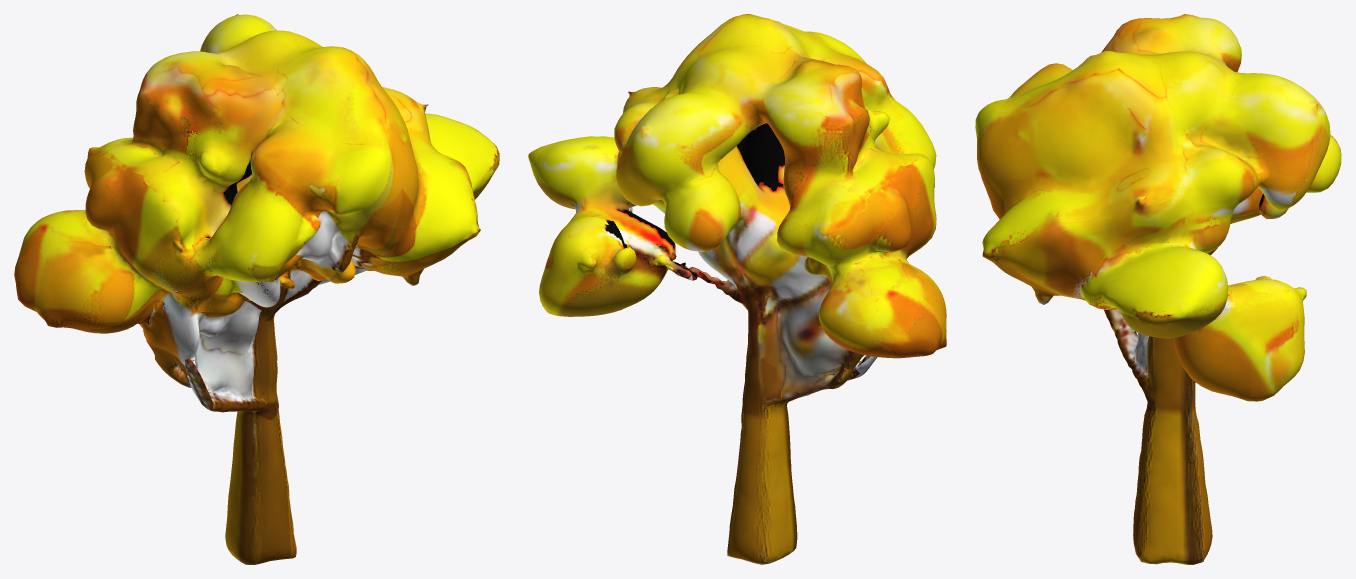
File: 018be739-1b3e-7e6e-a0f3-56bf0a079efd.glb
3 renders of one model, left to right at view 1: azimuth 30°, elevation 25°; view 2: azimuth 150°, elevation 25°; view 3: azimuth 270°, elevation 25°, orthographic. The views are drawn at different scales.
Parts seen in each view (by area): view 1: model.obj; view 2: model.obj; view 3: model.obj.
Boxes of the visible parts, x1,y1,x2,y2 form: model.obj: (14,14,499,564); model.obj: (528,14,946,564); model.obj: (975,14,1341,564).
Bounding box in the file's own units: 0.9507 × 1.06 × 0.6755.
Materials: 1 (1 with a texture image).
